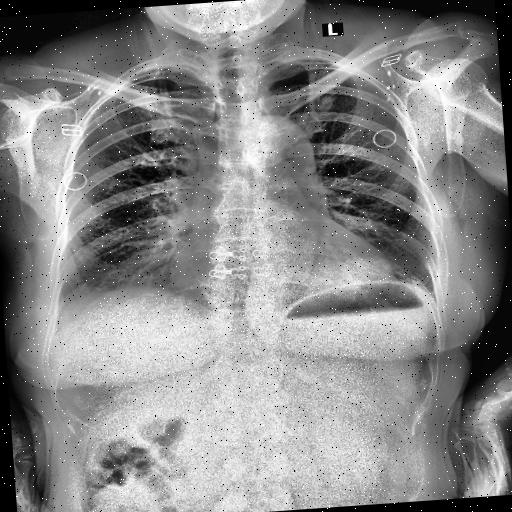0- Aortic enlargement: (243, 114, 317, 200), (256, 112, 314, 186), (252, 112, 316, 179)
3- Cardiomegaly: (166, 226, 392, 298), (166, 228, 392, 297), (167, 238, 391, 295)
